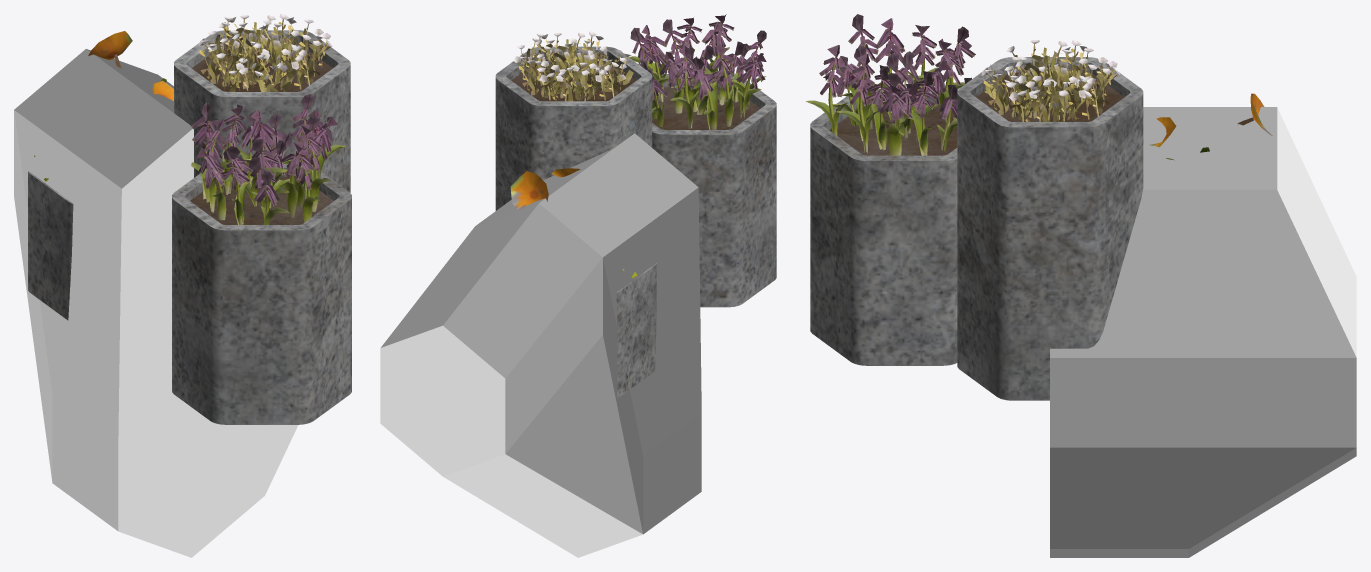
Rendered from SM_Flowerpot_05.fbx.
3 renders of one model, left to right at view 1: azimuth 30°, elevation 25°; view 2: azimuth 150°, elevation 25°; view 3: azimuth 270°, elevation 25°, orthographic. The views are drawn at different scales.
Visible parts, largest first — view 1: SM_Flowerpot_05_LOD0, SM_Flowerpot_05_ConvexHulls; view 2: SM_Flowerpot_05_ConvexHulls, SM_Flowerpot_05_LOD0; view 3: SM_Flowerpot_05_ConvexHulls, SM_Flowerpot_05_LOD0.
Boxes of the visible parts, box(x1,y1,x2,y2) form: SM_Flowerpot_05_LOD0: box(28, 14, 351, 424); SM_Flowerpot_05_ConvexHulls: box(14, 49, 298, 557); SM_Flowerpot_05_ConvexHulls: box(380, 133, 701, 557); SM_Flowerpot_05_LOD0: box(495, 14, 776, 397); SM_Flowerpot_05_ConvexHulls: box(1050, 107, 1356, 557); SM_Flowerpot_05_LOD0: box(806, 14, 1272, 400).
Size of the model in its own units: 64.84 by 136 by 144.
